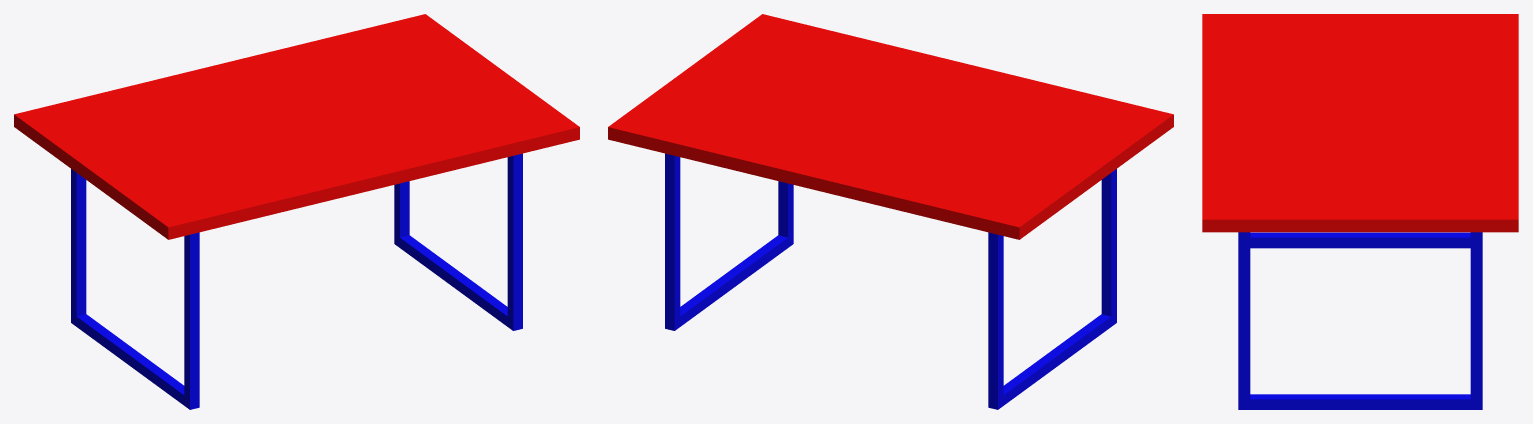
The model's file is Table.fbx.
3 renders of one model, left to right at view 1: azimuth 30°, elevation 25°; view 2: azimuth 150°, elevation 25°; view 3: azimuth 270°, elevation 25°, orthographic. The views are drawn at different scales.
Parts seen in each view (by area): view 1: pCube67, pCube69, pCube70, pCube71, pCube72, pCube75, pCube68; view 2: pCube67, pCube68, pCube71, pCube70, pCube72, pCube75, pCube69; view 3: pCube67, pCube72, pCube75, pCube68, pCube69.
Part boxes in pixels (box(x1,y1,x2,y2)): pCube67: box(14, 14, 579, 239); pCube69: box(507, 153, 522, 330); pCube70: box(184, 232, 199, 409); pCube71: box(71, 169, 86, 326); pCube72: box(76, 314, 184, 405); pCube75: box(400, 235, 507, 326); pCube68: box(394, 181, 409, 247); pCube67: box(608, 14, 1173, 239); pCube68: box(665, 153, 680, 330); pCube71: box(988, 232, 1003, 409); pCube70: box(1101, 169, 1116, 326); pCube72: box(1003, 314, 1111, 405); pCube75: box(680, 235, 787, 326); pCube69: box(778, 181, 793, 247); pCube67: box(1202, 14, 1518, 232); pCube72: box(1250, 232, 1470, 248); pCube75: box(1250, 394, 1470, 409); pCube68: box(1470, 232, 1482, 409); pCube69: box(1238, 232, 1250, 409).
Size of the model in its own units: 3.58 by 1.7 by 2.33.
